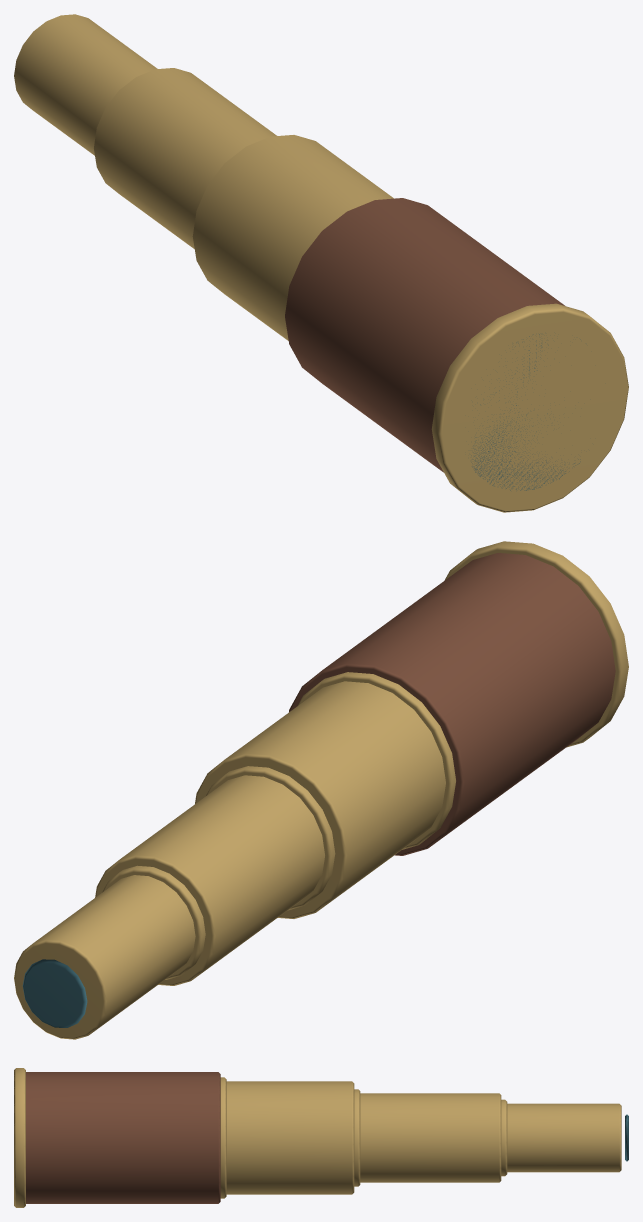
File: P033_spyglass_rebuilt.glb
3 renders of one model, top to bottom at view 1: azimuth 30°, elevation 25°; view 2: azimuth 150°, elevation 25°; view 3: azimuth 270°, elevation 25°, orthographic. The views are drawn at different scales.
Parts seen in each view (by area): view 1: brass, leather, glass; view 2: brass, leather, glass; view 3: brass, leather.
Part boxes in pixels (x1,y1,x2,y2): brass: (14, 14, 628, 512); leather: (285, 198, 564, 472); glass: (471, 334, 580, 490); brass: (14, 541, 628, 1039); leather: (289, 553, 615, 855); glass: (22, 959, 87, 1027); brass: (14, 1068, 621, 1207); leather: (26, 1072, 220, 1203).
Size of the model in its own units: 0.11 by 0.11 by 0.4805.
